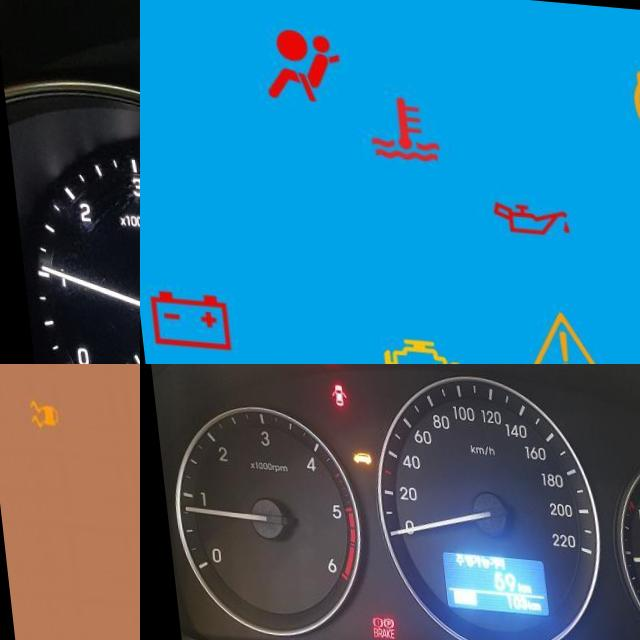Doors: (324, 380, 340, 402)
High Engine Coolant Temperature: (350, 73, 451, 173)
